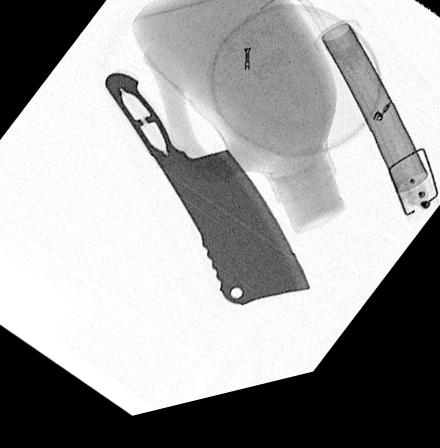Knife: (103, 74, 311, 317)
